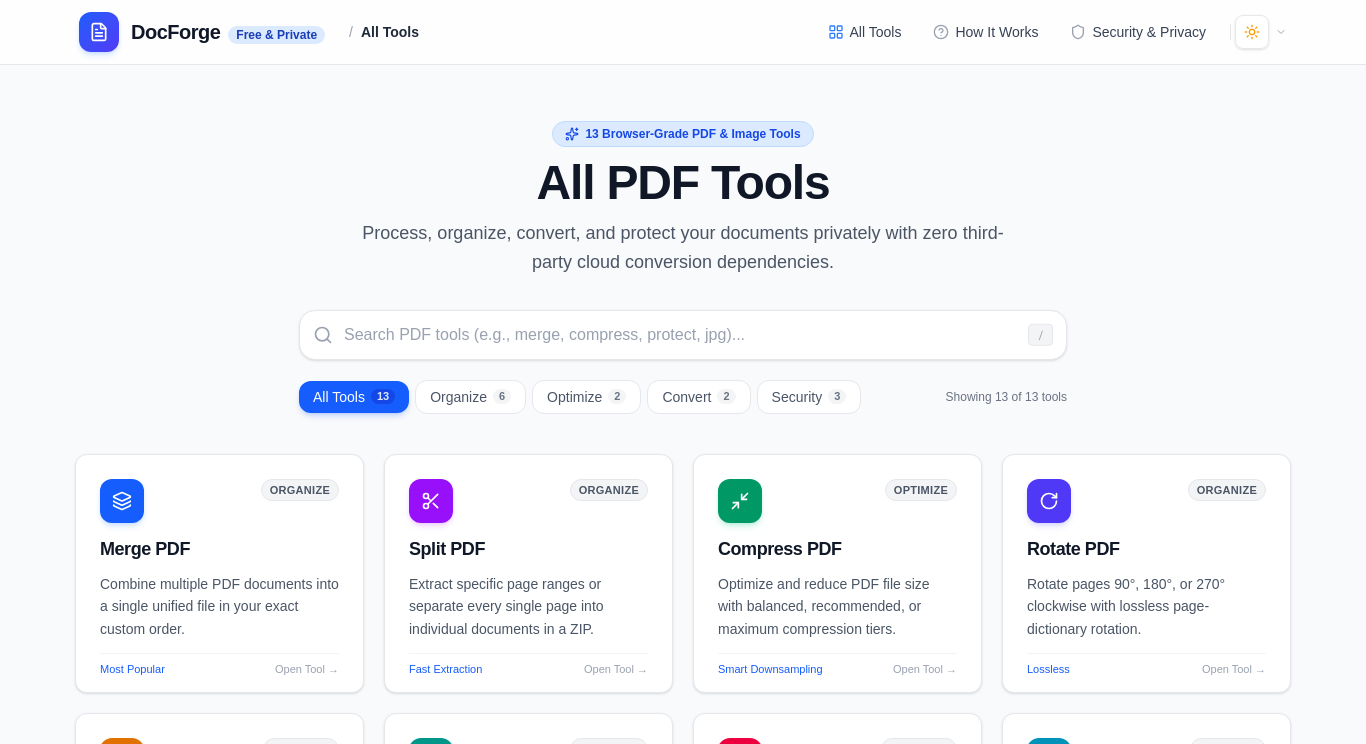
Test: All Tools Directory Page (/tools) › displays empty state when query matches no tools and resets properly
Type "nonexistenttool1234" into the field with test id "tool-search-input".
click(683, 334); type("nonexistenttool1234")  # box [299,310,1067,360]
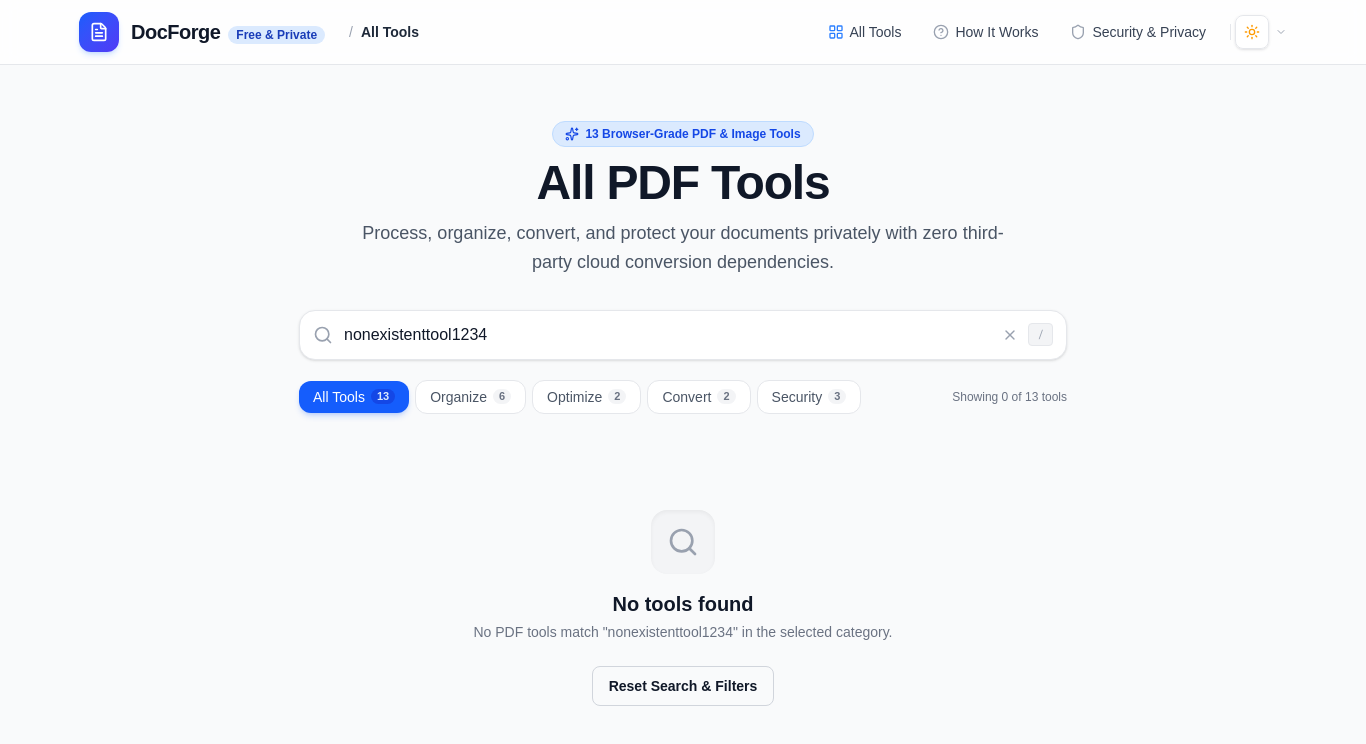
Result: the heading "No tools found" is shown at [612,592,754,614]
# Click Reset Search & Filters button
Click the button "Reset Search & Filters".
click(683, 686)  # box [592,666,774,706]
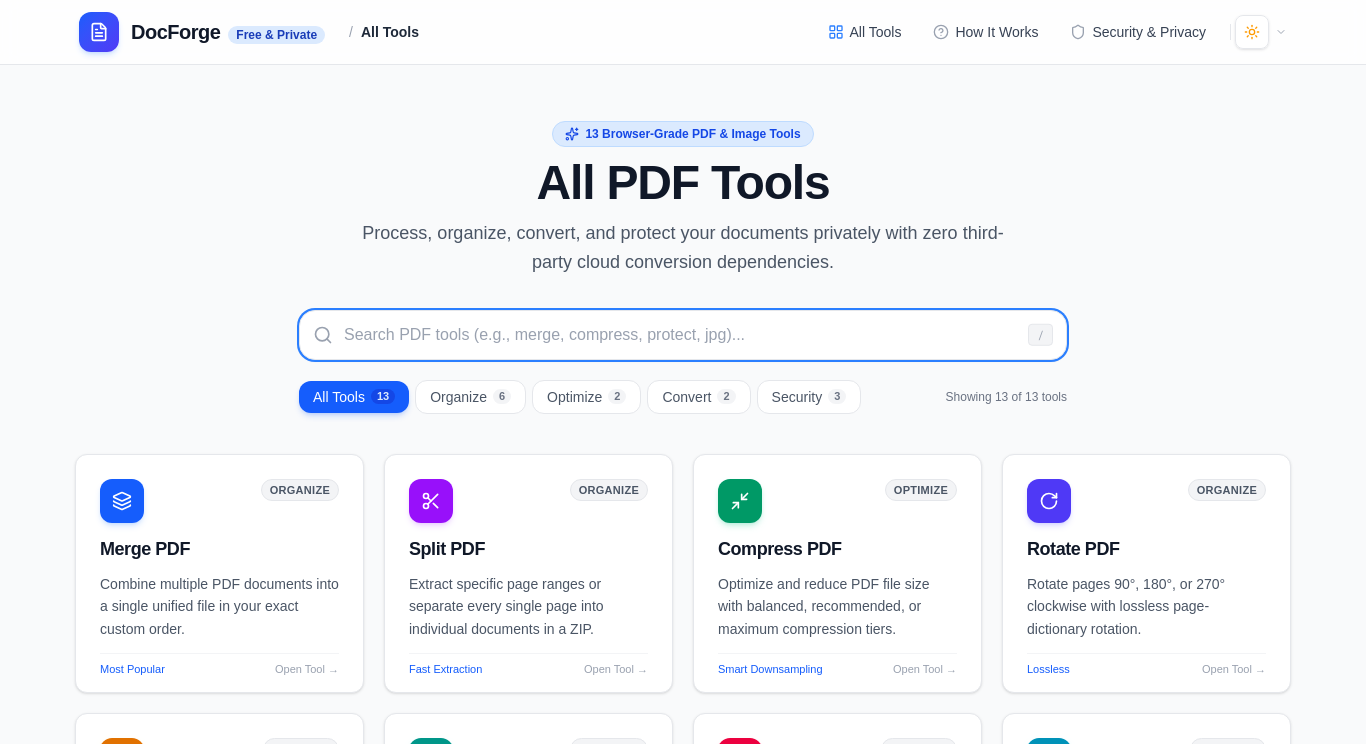
Result: the link with test id "tool-card-merge-pdf" is shown at [75,454,364,693]
Result: the text "Showing 13 of 13 tools" is shown at [946,388,1067,404]
